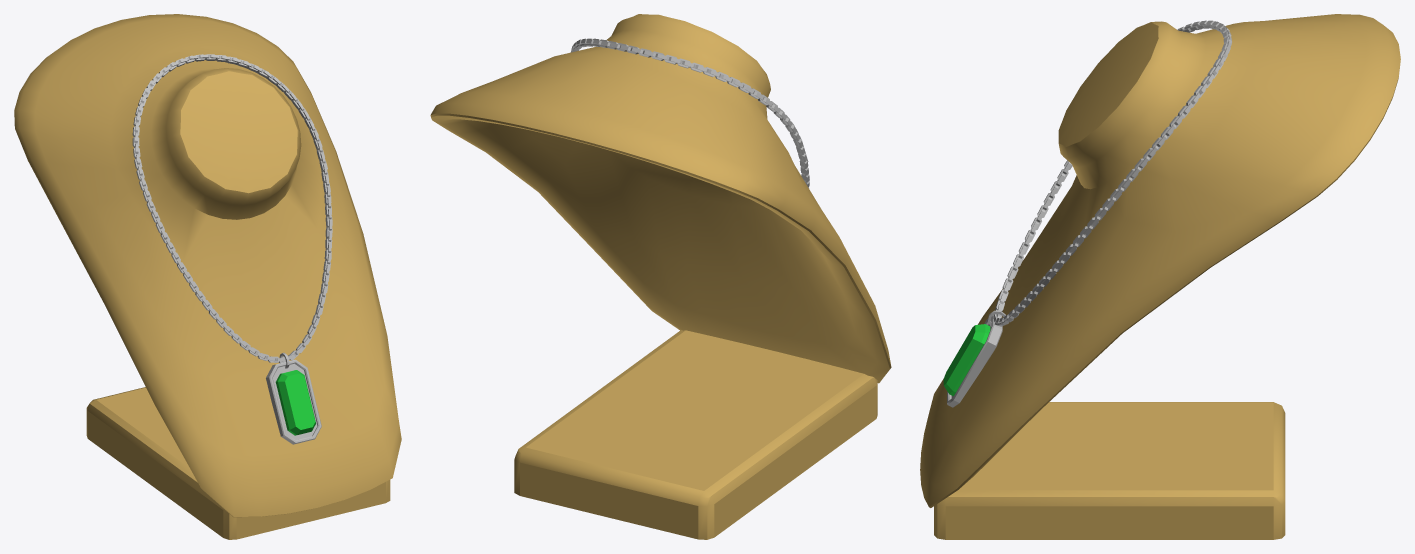
The model's file is Necklace_14.fbx.
3 renders of one model, left to right at view 1: azimuth 30°, elevation 25°; view 2: azimuth 150°, elevation 25°; view 3: azimuth 270°, elevation 25°, orthographic. The views are drawn at different scales.
Parts seen in each view (by area): view 1: SM_Stand_Necklace_13, SM_Necklace_15, SM_Cullon_2; view 2: SM_Stand_Necklace_13, SM_Necklace_15; view 3: SM_Stand_Necklace_13, SM_Necklace_15, SM_Cullon_2.
Part boxes in pixels (bbox=[...]): SM_Stand_Necklace_13: bbox=[14, 14, 401, 539]; SM_Necklace_15: bbox=[132, 54, 332, 363]; SM_Cullon_2: bbox=[266, 352, 321, 444]; SM_Stand_Necklace_13: bbox=[430, 14, 891, 539]; SM_Necklace_15: bbox=[570, 38, 809, 188]; SM_Stand_Necklace_13: bbox=[920, 14, 1400, 539]; SM_Necklace_15: bbox=[993, 20, 1231, 326]; SM_Cullon_2: bbox=[943, 310, 1005, 407].
Bounding box in the file's own units: 22.51 × 29.29 × 27.78.
